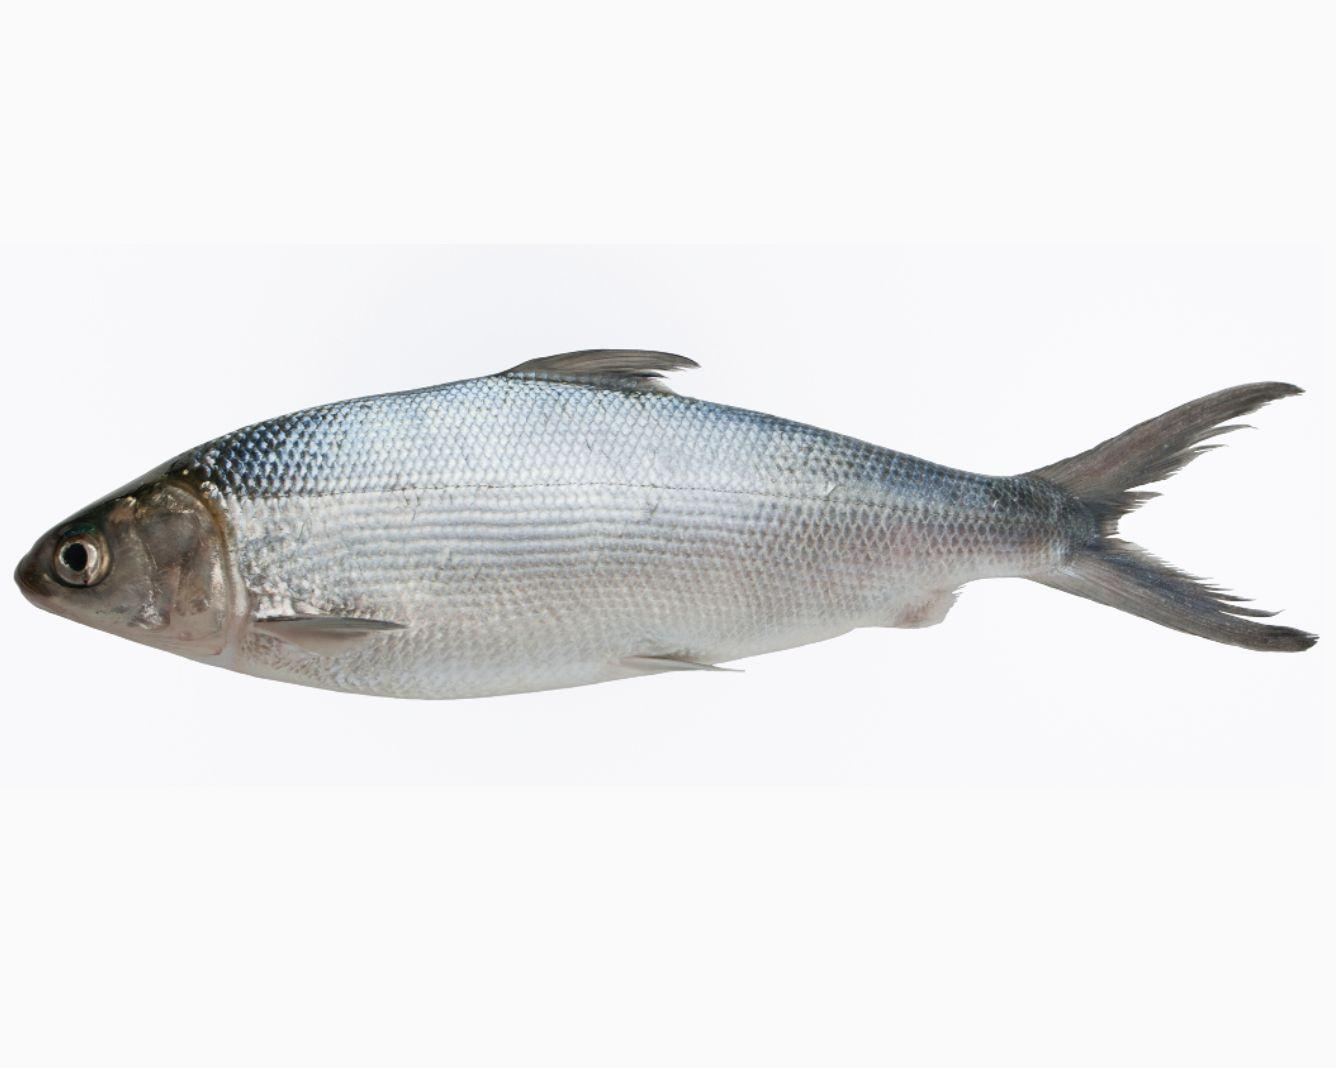Bangus: (19, 350, 1317, 703)
